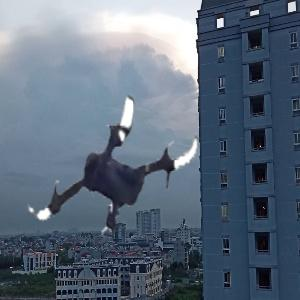drone: (20, 70, 207, 257)
